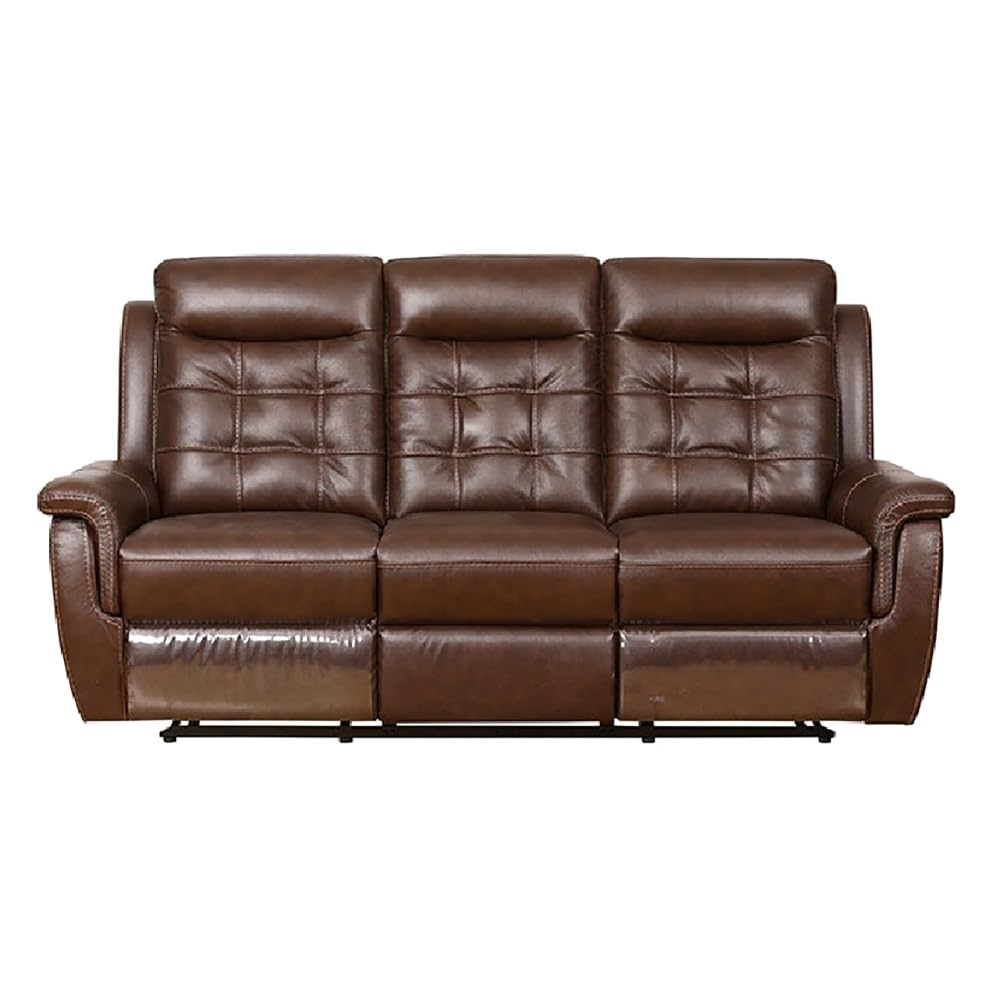3seatersofa: (39, 256, 953, 742)
backrest: (155, 256, 836, 520)
base: (126, 627, 864, 722)
leftarmrest: (827, 305, 954, 723)
leg: (160, 719, 835, 743)
rightarmrest: (39, 302, 159, 720)
seat: (119, 512, 870, 623)
